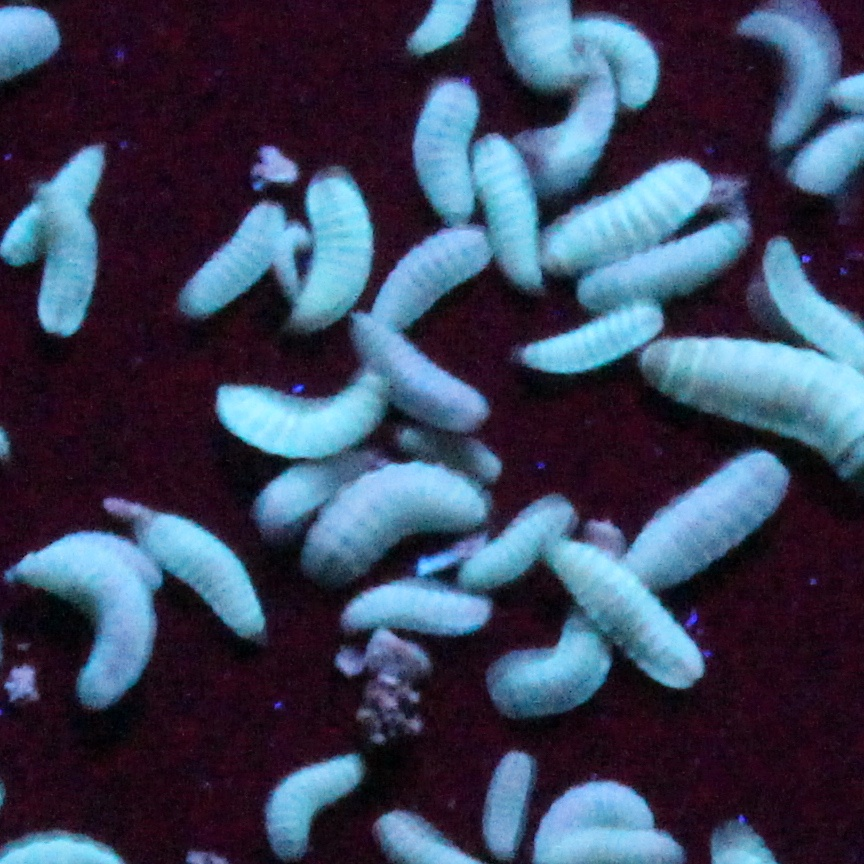larve: (626, 461, 809, 581), (17, 541, 143, 706), (137, 509, 280, 641), (569, 546, 711, 675), (346, 315, 506, 426), (580, 224, 760, 309), (540, 175, 697, 266), (163, 201, 280, 312), (0, 149, 114, 258), (266, 746, 369, 864), (23, 195, 97, 349), (217, 378, 389, 441), (294, 181, 372, 318), (503, 618, 609, 712), (406, 84, 480, 218), (534, 61, 612, 181), (526, 315, 657, 364), (480, 755, 537, 852), (592, 26, 666, 98)
